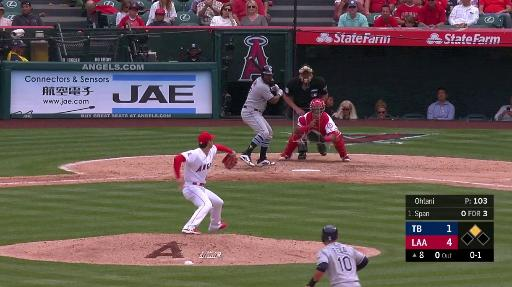pitcher: (173, 132, 240, 236)
